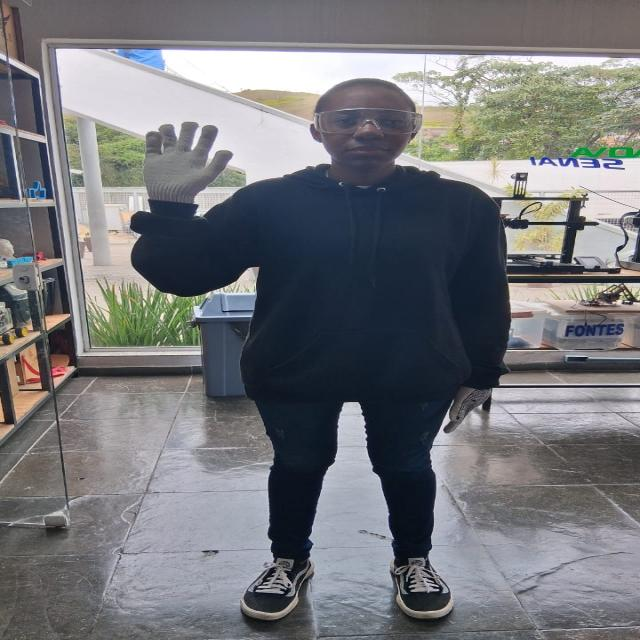LUVA: (125, 124, 239, 214), (445, 383, 506, 440)
OCULOS: (318, 106, 427, 138)
SEM BOTA: (239, 546, 324, 621), (388, 548, 451, 621)
